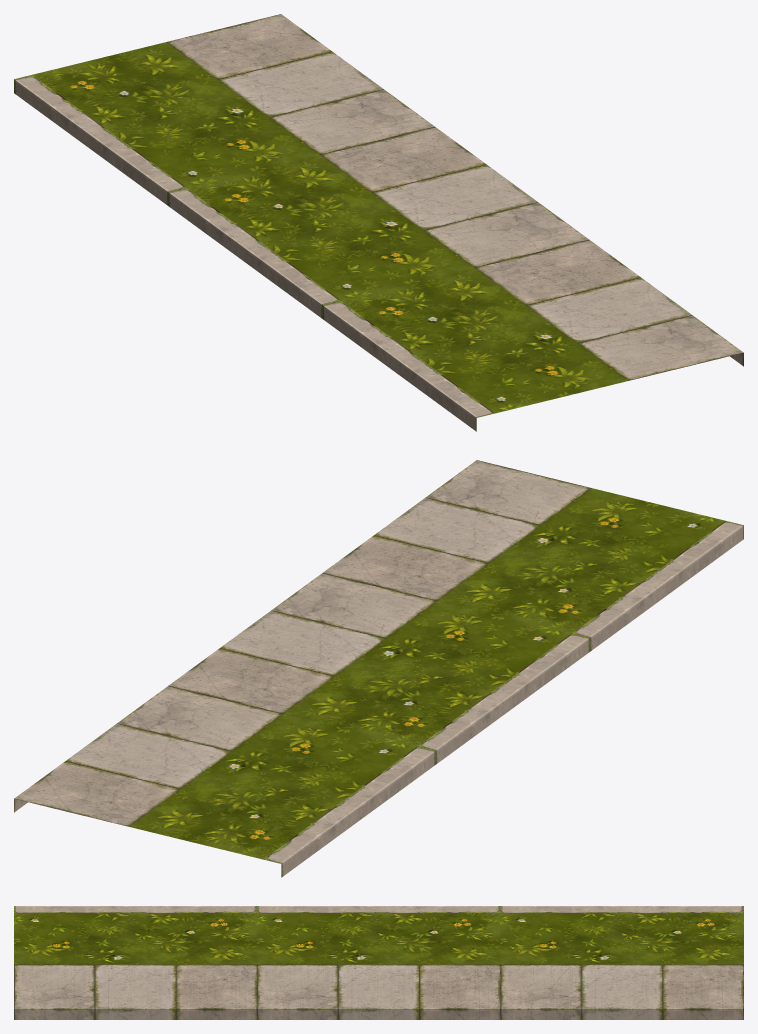
The model's file is TRF0110008.fbx.
3 renders of one model, top to bottom at view 1: azimuth 30°, elevation 25°; view 2: azimuth 150°, elevation 25°; view 3: azimuth 270°, elevation 25°, orthographic. The views are drawn at different scales.
Visible parts, largest first — view 1: smTRF0110008; view 2: smTRF0110008; view 3: smTRF0110008.
Boxes of the visible parts, x1=… form: smTRF0110008: x1=14, y1=14, x2=743, y2=431; smTRF0110008: x1=14, y1=460, x2=743, y2=877; smTRF0110008: x1=14, y1=906, x2=743, y2=1019.
Size of the model in its own units: 300 by 15 by 900.
1 material, 1 textured.
